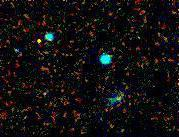star: (22, 27, 52, 57)
